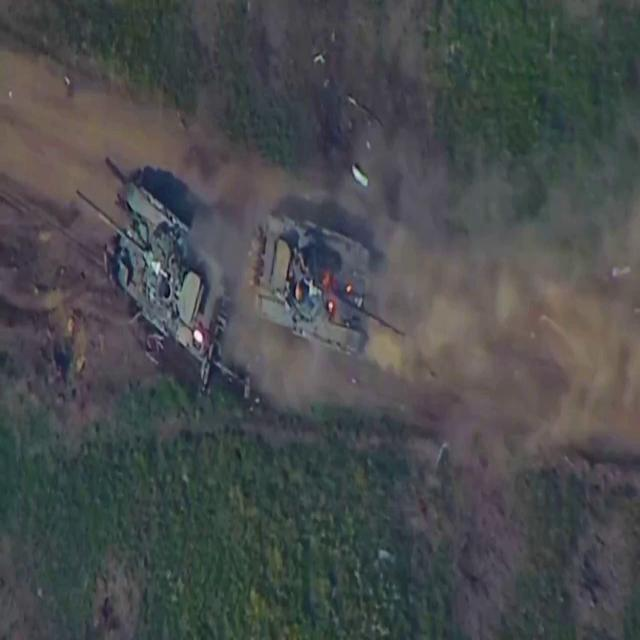MBT: (73, 159, 241, 373), (247, 205, 411, 365)
